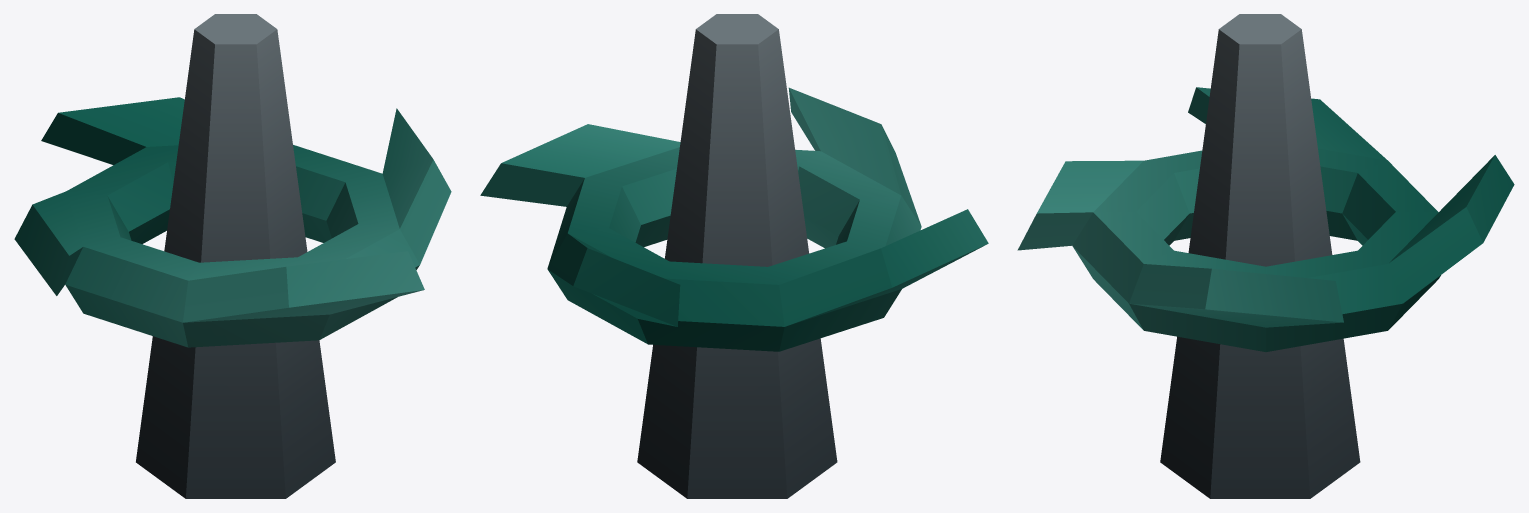
The model's file is Monu 3.fbx.
3 renders of one model, left to right at view 1: azimuth 30°, elevation 25°; view 2: azimuth 150°, elevation 25°; view 3: azimuth 270°, elevation 25°, orthographic.
Parts seen in each view (by area): view 1: Monu 3; view 2: Monu 3; view 3: Monu 3.
Part boxes in pixels (<box>): Monu 3: <box>14,14,451,498</box>; Monu 3: <box>480,14,988,498</box>; Monu 3: <box>1017,14,1514,498</box>.
Bounding box in the file's own units: 117 × 112 × 117.
